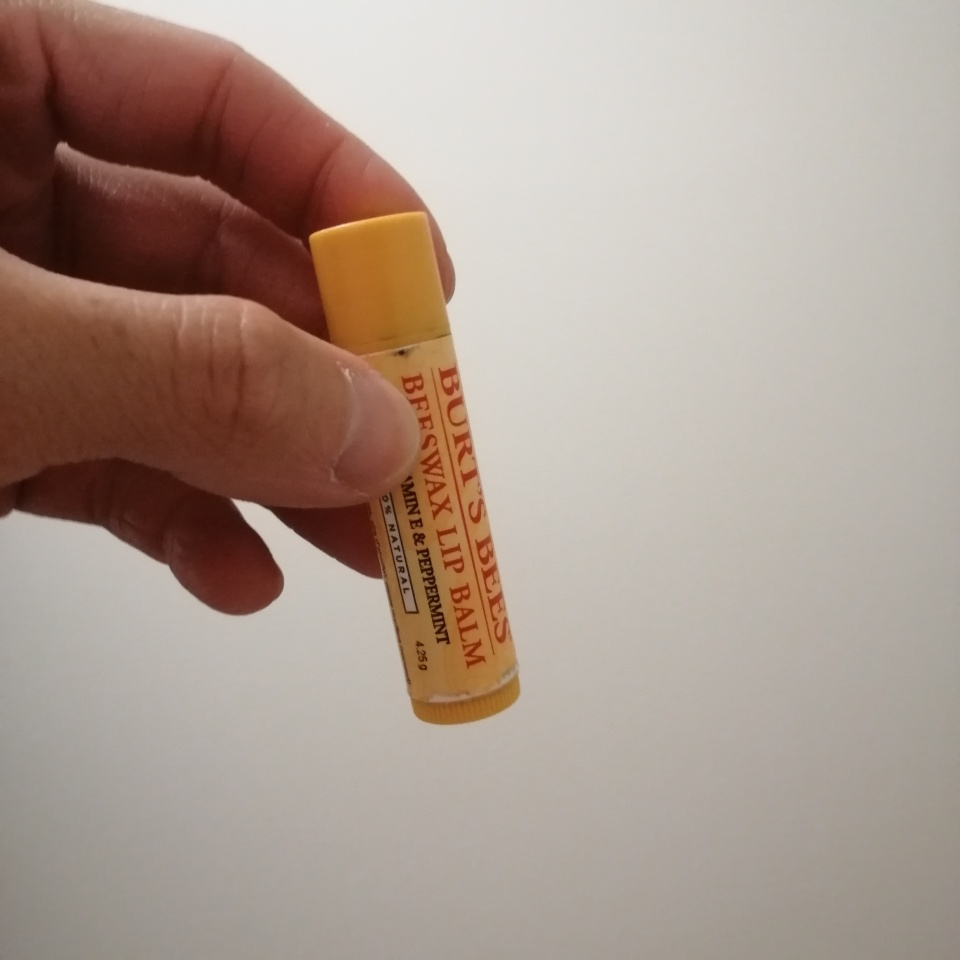chapstick: (307, 213, 527, 729)
